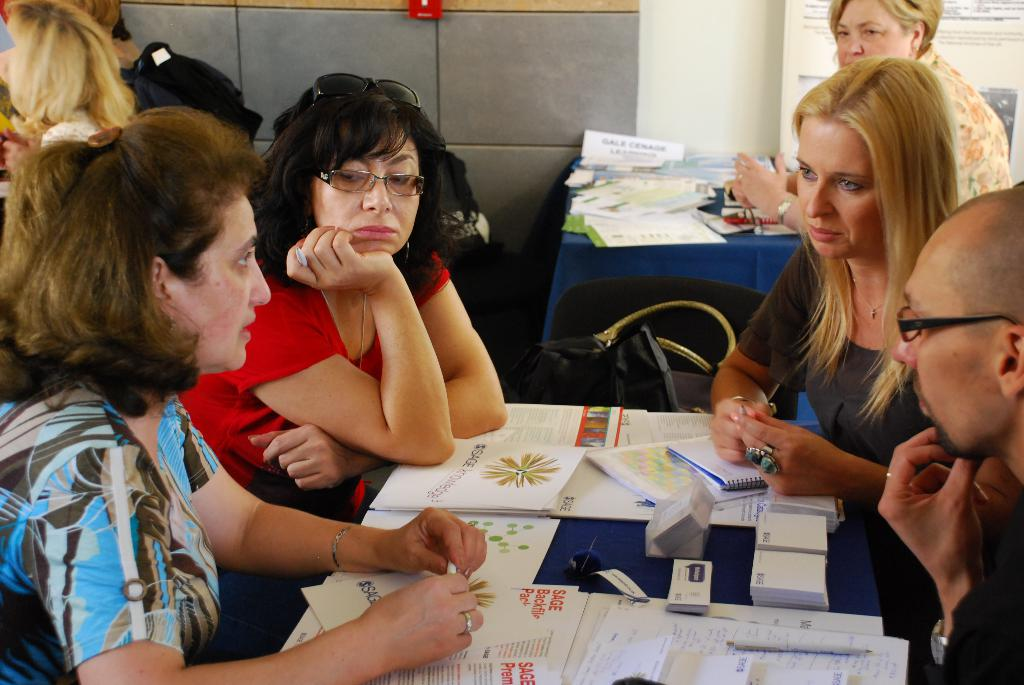Human_hand: (876, 412, 1001, 636), (367, 571, 485, 673), (728, 405, 855, 498), (283, 222, 393, 295), (246, 423, 358, 493), (387, 505, 488, 576), (705, 395, 770, 467), (732, 148, 787, 214), (728, 175, 755, 210)
